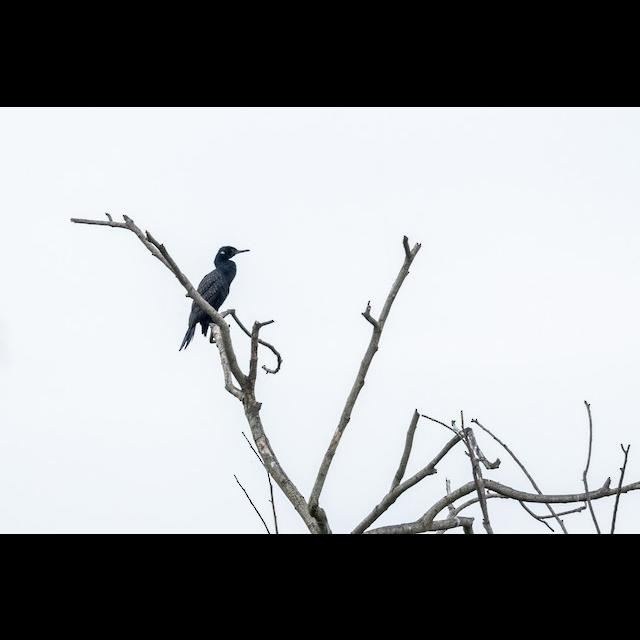cormorant: (185, 238, 261, 356)
